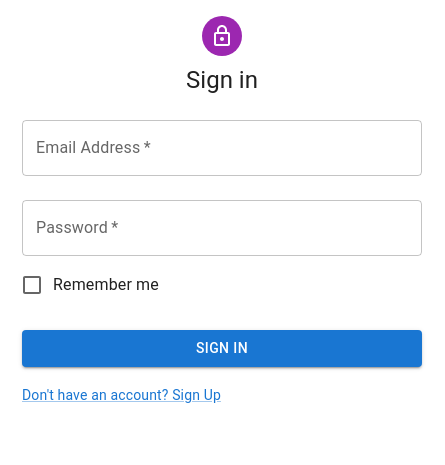
test auth › should pass wrong user credentials (email) and get error
In the field labelled "Email Address *": (222, 148) [22,120,422,176], type "user"
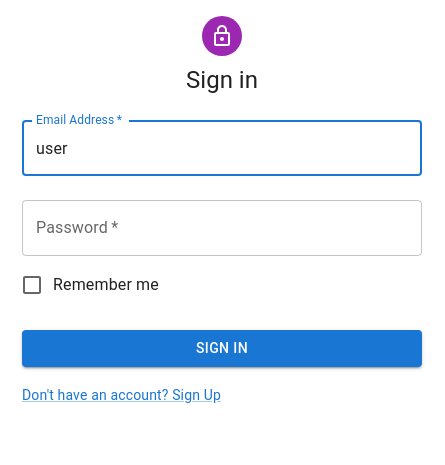
Click the button "Sign In": (222, 349) [22,330,422,367]
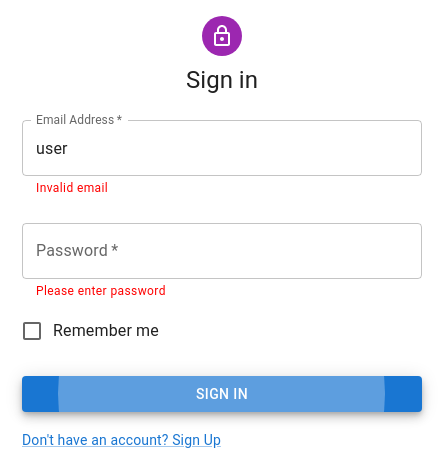
Now the element showing "Invalid email" is shown, box [36,181,108,195]
